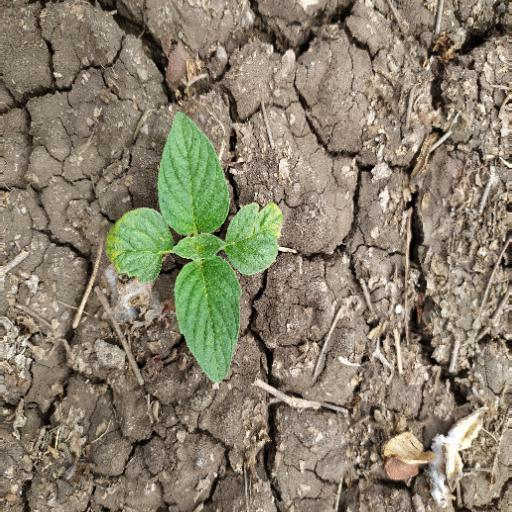weed: (101, 115, 288, 400)
